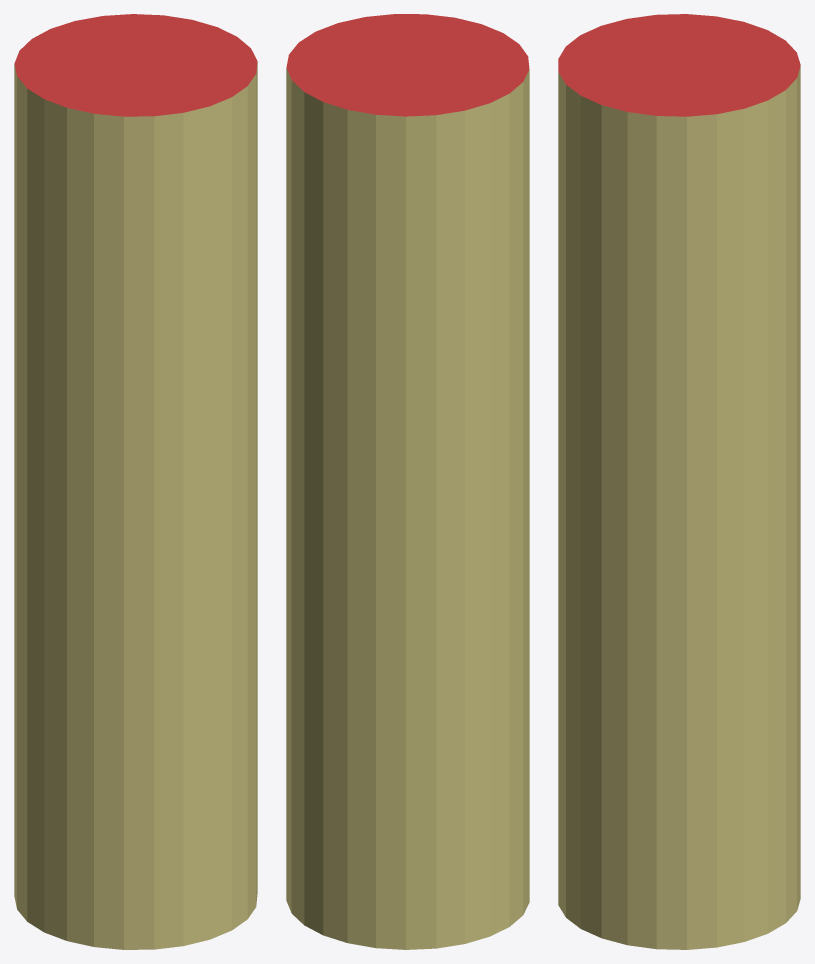
The picture shows the model from 3 angles, left to right: view 1: azimuth 30°, elevation 25°; view 2: azimuth 150°, elevation 25°; view 3: azimuth 270°, elevation 25°; orthographic projection.
Bounding box in the file's own units: 3.59 × 3.58 × 13.58.
